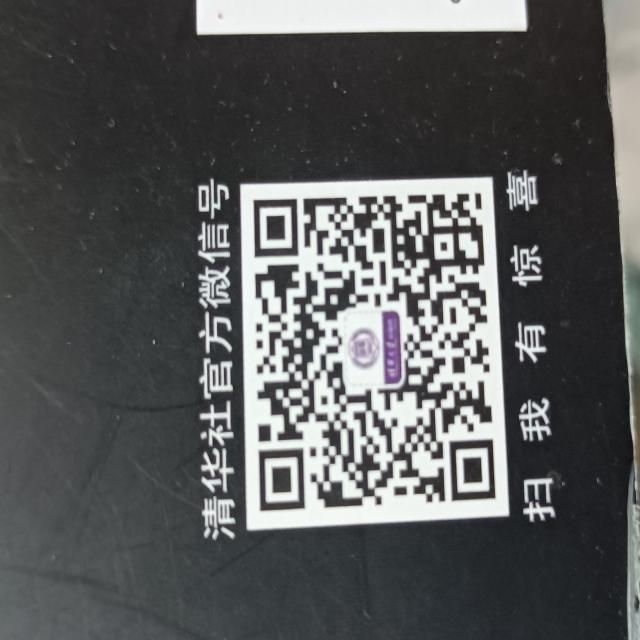qr_code: (253, 191, 496, 512)
